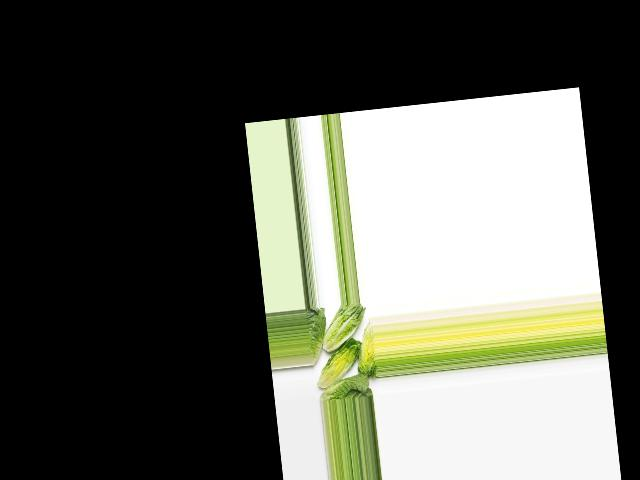lettuce: (319, 371, 373, 402)
